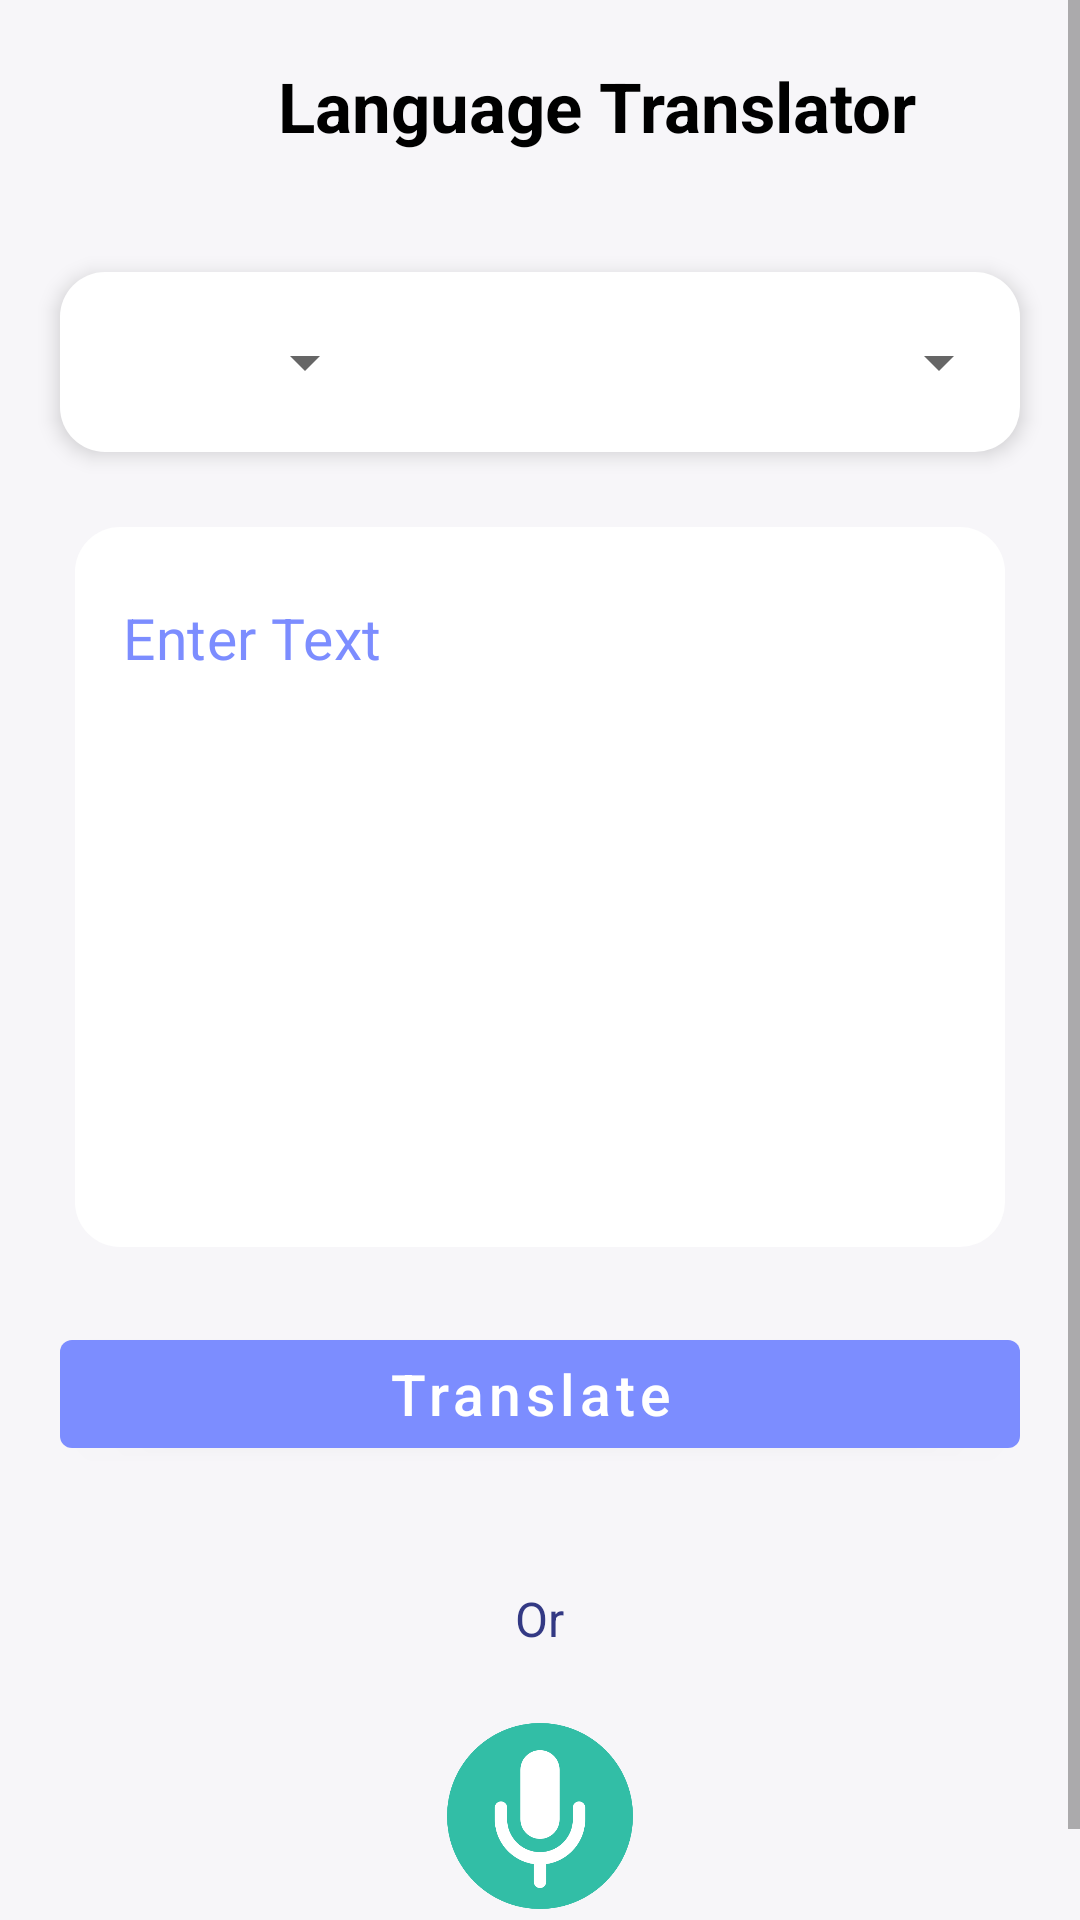

Screen size 1080px x 1920px. Icon name, then its box in pixels as (x1, y1, x2, y2):
voice: (447, 1723, 633, 1909)
